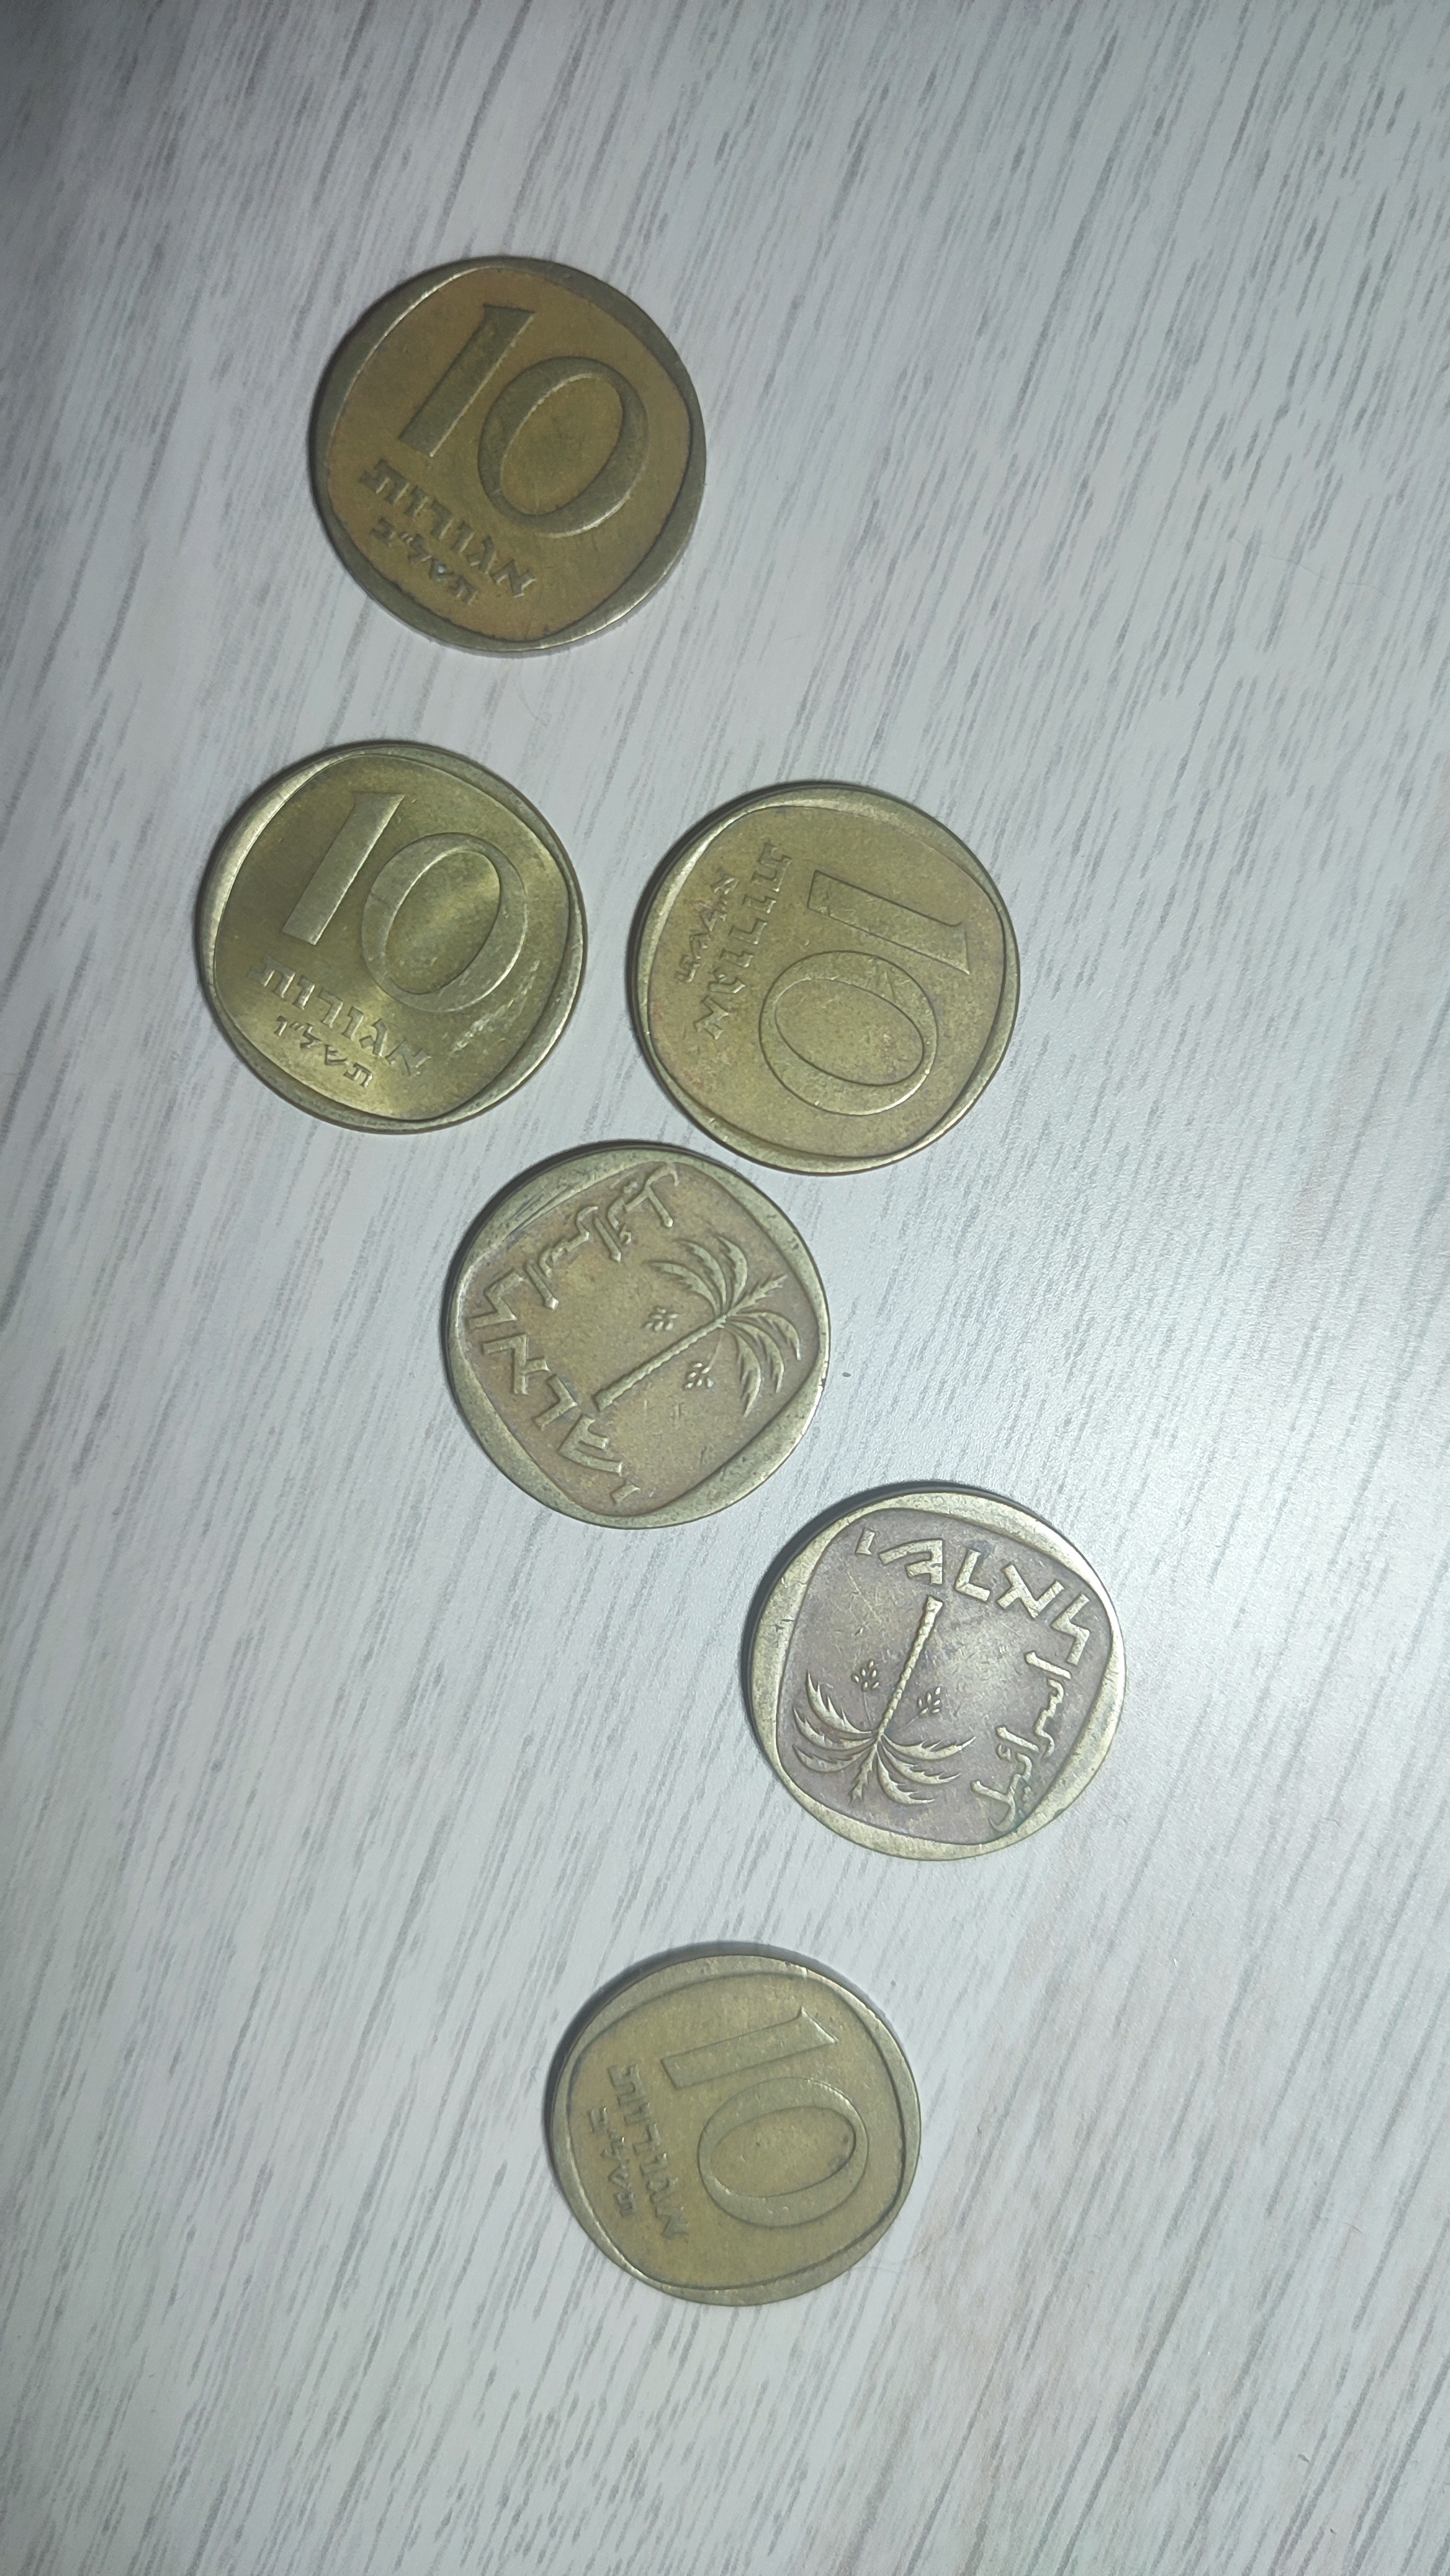10 old agora brown: (309, 257, 709, 653), (193, 740, 589, 1136), (633, 784, 1024, 1177), (442, 1143, 836, 1532), (748, 1483, 1130, 1863), (543, 1939, 925, 2311)
